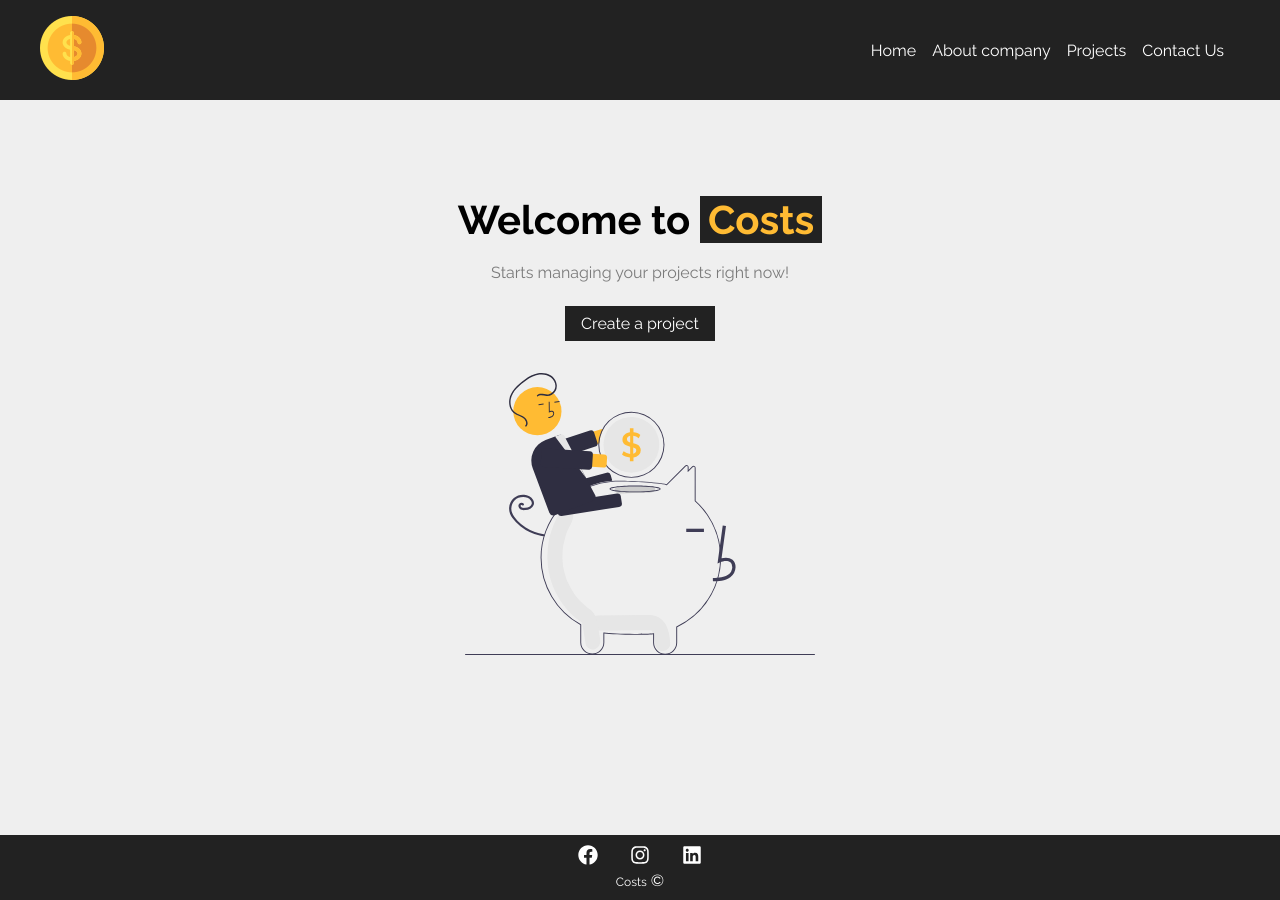
Navigation › Company link
Click the link "About company": (991, 50) left=932, top=40, right=1051, bottom=60
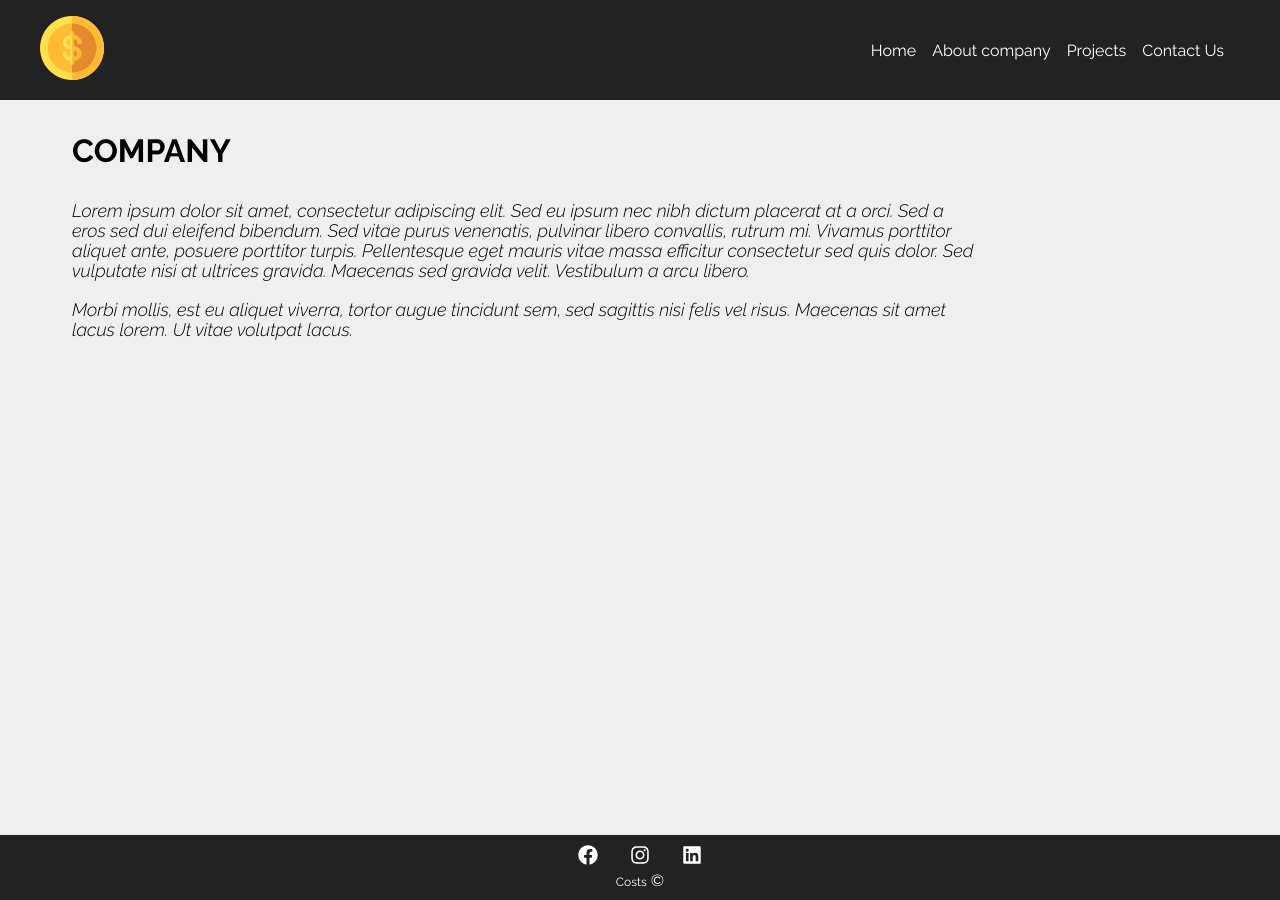
Check: the element with test id "company" is shown, box left=72, top=132, right=973, bottom=340
